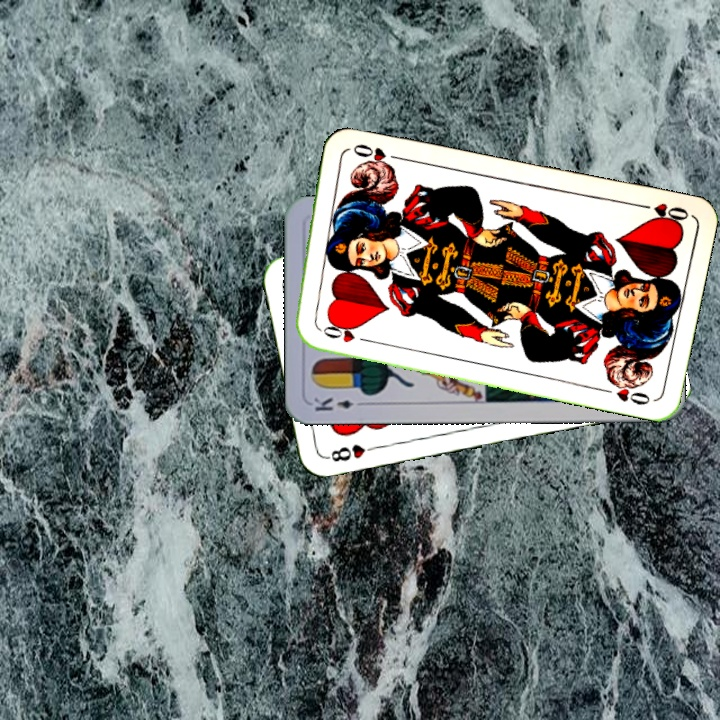EK: (310, 394, 369, 414)
H8: (321, 440, 380, 465)
HO: (312, 317, 370, 346), (633, 199, 691, 228)
